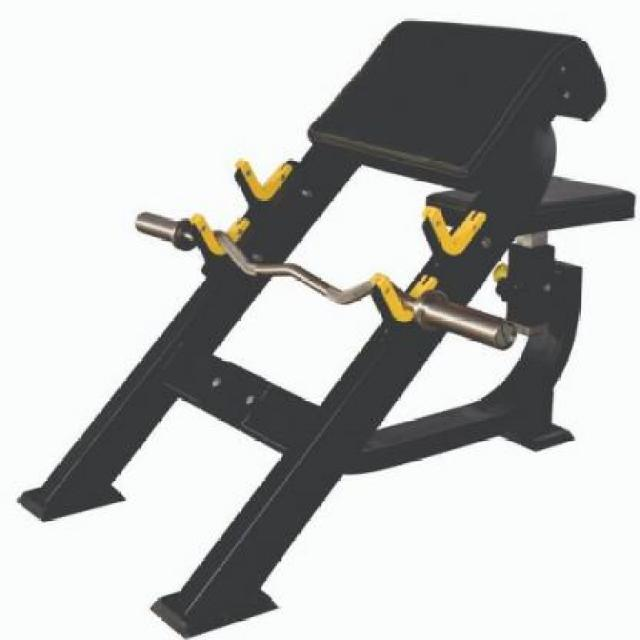arm curl machine: (18, 17, 632, 635)
